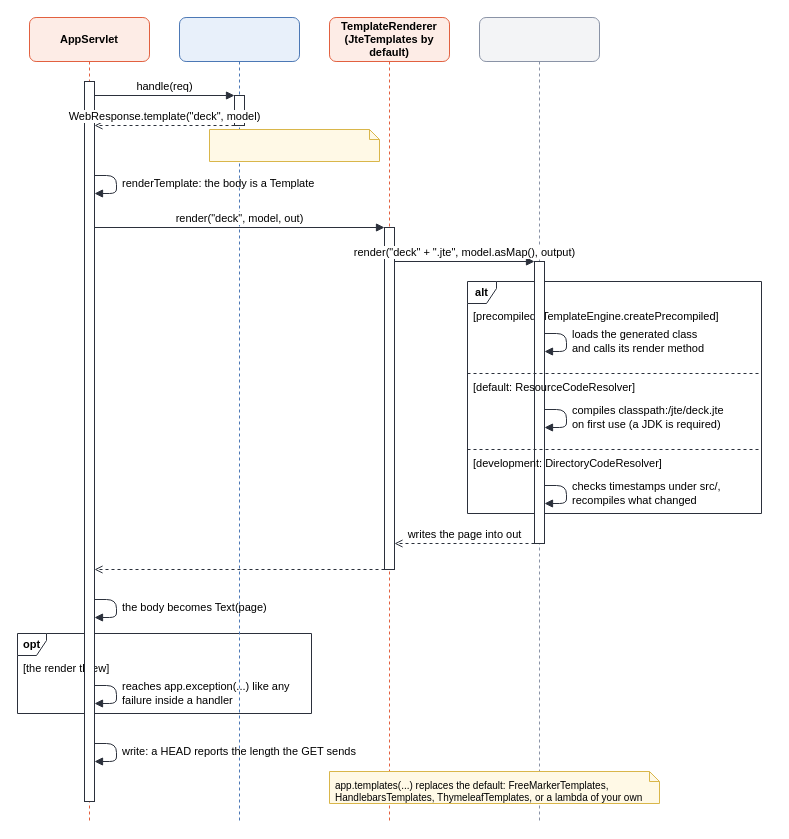
The diagram is 789 pixels wide and 839 high, and some of its shapes have lost their labels. Each missing label, with the box of its shape:
body = Template(name, model) nothing is rendered yet: (208, 128, 380, 162)
Handler: (178, 16, 300, 822)
jte TemplateEngine: (478, 16, 600, 822)
